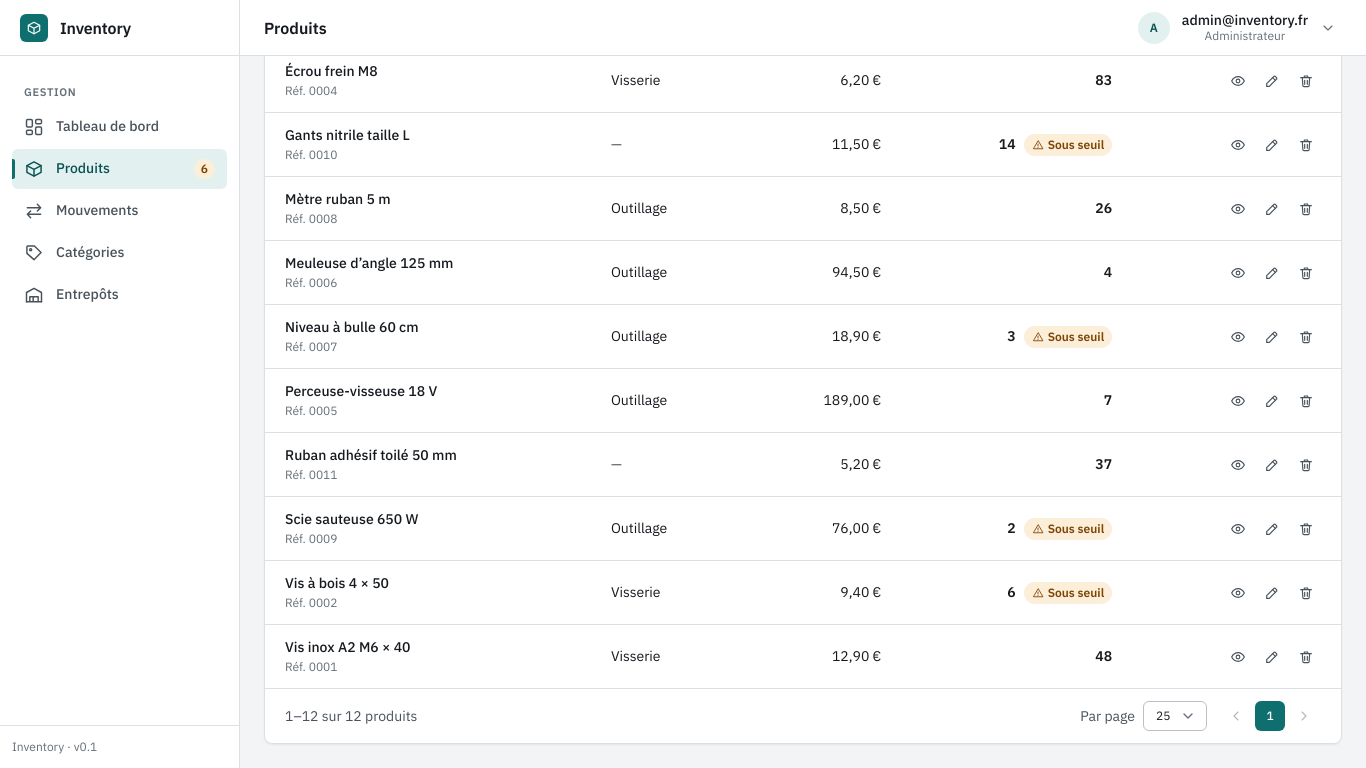
useProductDelete › a product without movements › asks for a danger confirmation, deletes it and refreshes the list and the counters
(page scrolled)
Expected: the text "1–12 sur 12 produits" is shown, [285, 706, 417, 724]
Expected: the text named "6 produits à surveiller" is shown, [194, 158, 215, 178]
Click the button named "Supprimer Vis à bois 4 × 50" at (1306, 592), box [1291, 578, 1321, 608]
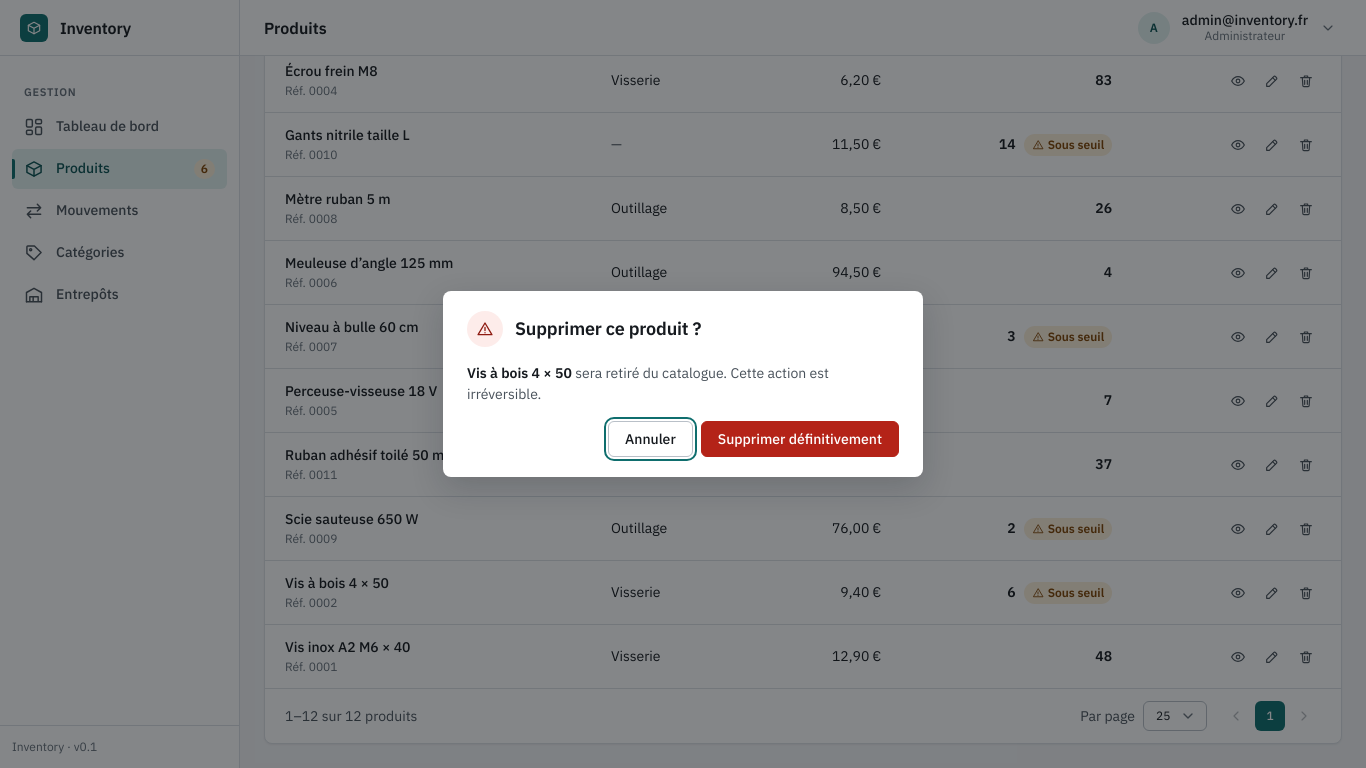
Result: the dialog "Supprimer ce produit ?" shows "Vis à bois 4 × 50 sera retiré du catalogue. Cette action est irréversible." at [443, 291, 923, 477]
Click the button "Supprimer définitivement" at (800, 439), box [701, 421, 899, 457]
(page scrolled)
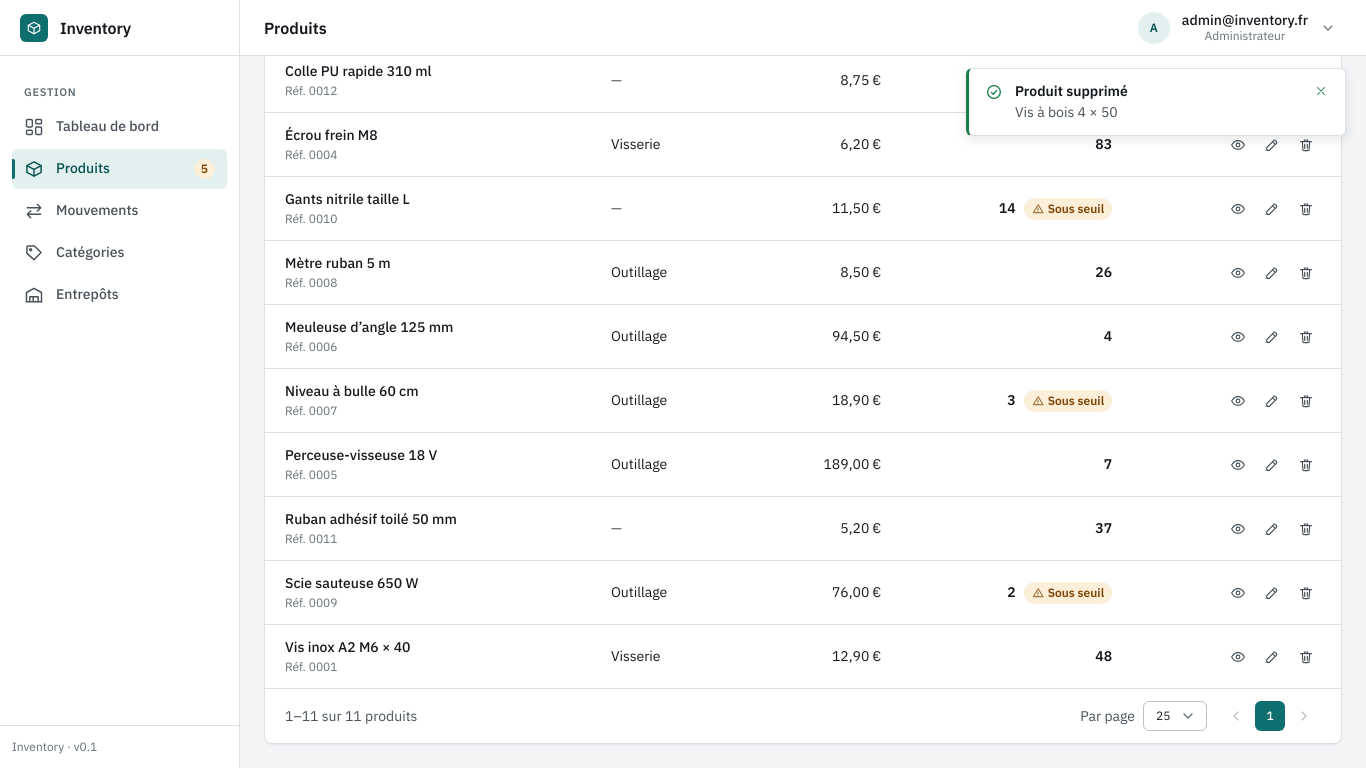
Result: the text "Produit supprimé" shows "Vis à bois 4 × 50" at [1015, 103, 1118, 121]
Result: the text "1–11 sur 11 produits" is shown at [285, 706, 417, 724]
Result: the text named "5 produits à surveiller" is shown at [194, 158, 215, 178]
